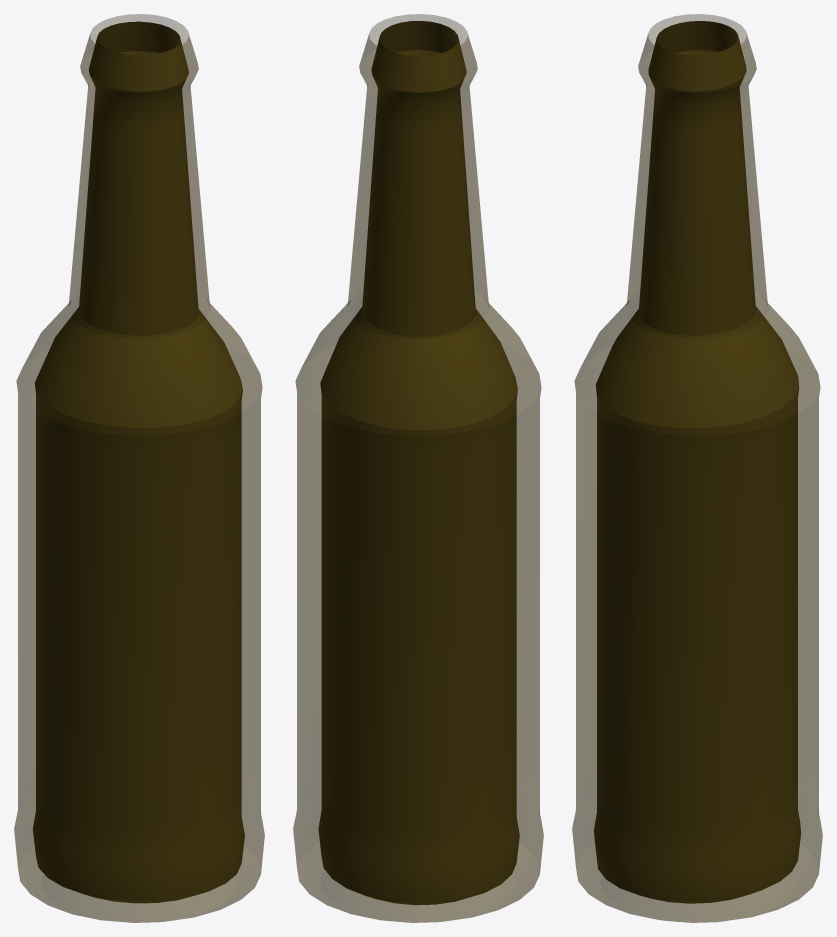
File: BottleUi.fbx
3 views of the same model, side by side, from view 1: azimuth 30°, elevation 25°; view 2: azimuth 150°, elevation 25°; view 3: azimuth 270°, elevation 25° (orthographic).
Visible parts, largest first — view 1: Bottle, Bottle.001; view 2: Bottle, Bottle.001; view 3: Bottle, Bottle.001.
Boxes of the visible parts, x1,y1,x2,y2 form: Bottle: (14,14,264,922); Bottle.001: (33,21,244,902); Bottle: (293,14,543,922); Bottle.001: (318,21,519,904); Bottle: (572,14,822,922); Bottle.001: (593,21,800,903).
Bounding box in the file's own units: 14.01 × 52.2 × 14.01.
